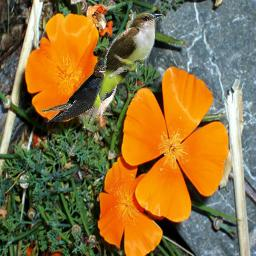Cuckoo: (83, 12, 163, 130)
Swallow: (39, 60, 117, 122)
